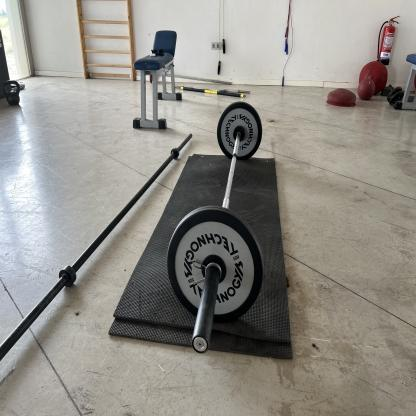barbell: (167, 209, 265, 328), (218, 102, 264, 163)
